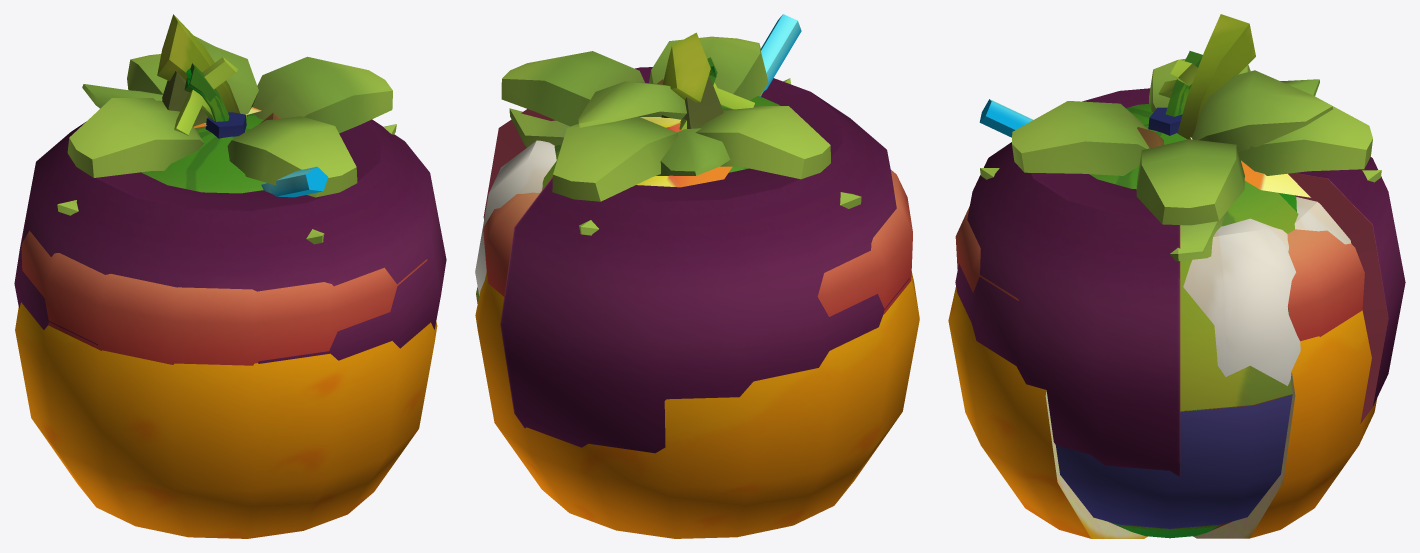
3 views of the same model, side by side, from view 1: azimuth 30°, elevation 25°; view 2: azimuth 150°, elevation 25°; view 3: azimuth 270°, elevation 25° (orthographic). The views are drawn at different scales.
Parts seen in each view (by area): view 1: fruit_2, fruit_3, fruit_5, fruit_8, fruit_6, fruit_1, fruit_7, fruit_0; view 2: fruit_2, fruit_3, fruit_5, fruit_1, fruit_7, fruit_8, fruit_6; view 3: fruit_2, fruit_3, fruit_0, fruit_8, fruit_5, fruit_7, fruit_1, fruit_9, fruit_6.
Part boxes in pixels (x1=…): fruit_2: x1=14, y1=14, x2=446, y2=363; fruit_3: x1=15, y1=36, x2=437, y2=538; fruit_5: x1=21, y1=84, x2=427, y2=365; fruit_8: x1=141, y1=63, x2=264, y2=193; fruit_6: x1=174, y1=57, x2=237, y2=135; fruit_1: x1=57, y1=71, x2=396, y2=244; fruit_7: x1=194, y1=107, x2=328, y2=197; fruit_0: x1=205, y1=112, x2=246, y2=138; fruit_2: x1=475, y1=32, x2=909, y2=453; fruit_3: x1=475, y1=81, x2=919, y2=538; fruit_5: x1=483, y1=79, x2=912, y2=316; fruit_1: x1=509, y1=77, x2=861, y2=235; fruit_7: x1=476, y1=14, x2=801, y2=303; fruit_8: x1=476, y1=57, x2=779, y2=303; fruit_6: x1=679, y1=82, x2=754, y2=130; fruit_2: x1=955, y1=14, x2=1405, y2=476; fruit_3: x1=948, y1=70, x2=1377, y2=538; fruit_0: x1=1055, y1=107, x2=1292, y2=528; fruit_8: x1=1090, y1=51, x2=1298, y2=411; fruit_5: x1=955, y1=79, x2=1364, y2=341; fruit_7: x1=979, y1=99, x2=1310, y2=530; fruit_1: x1=980, y1=168, x2=1381, y2=261; fruit_9: x1=1109, y1=84, x2=1296, y2=538; fruit_6: x1=1158, y1=59, x2=1197, y2=97.
Size of the model in its own units: 1.05 by 1.25 by 1.05.
10 materials, 10 textured.
